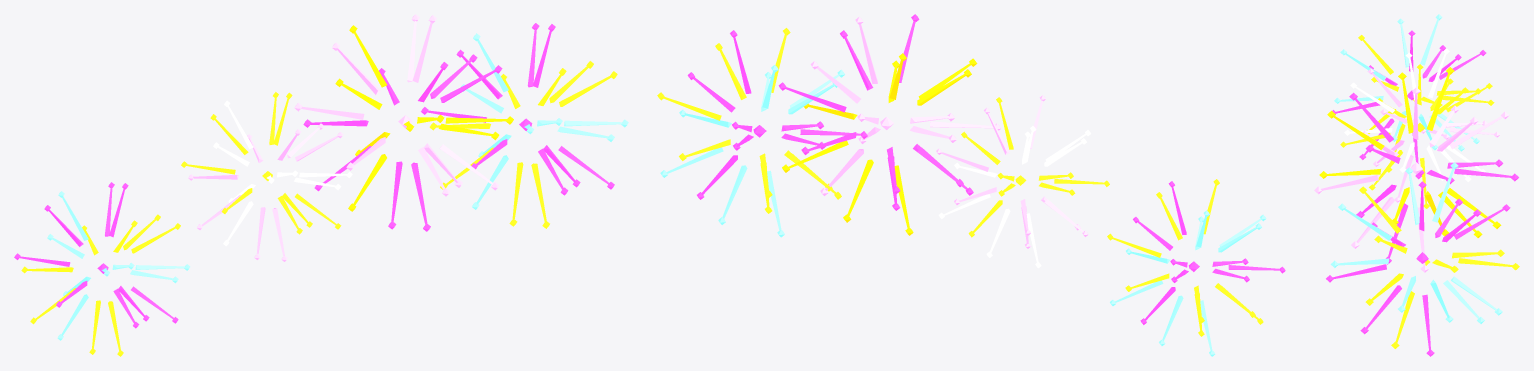
Rendered from W6_Far_Fireworks.fbx.
The picture shows the model from 3 angles, left to right: view 1: azimuth 30°, elevation 25°; view 2: azimuth 150°, elevation 25°; view 3: azimuth 270°, elevation 25°; orthographic projection. The views are drawn at different scales.
Visible parts, largest first — view 1: W6_Far_Fireworks; view 2: W6_Far_Fireworks; view 3: W6_Far_Fireworks.
Part boxes in pixels (x1,y1,x2,y2): W6_Far_Fireworks: (14,14,628,356); W6_Far_Fireworks: (657,14,1285,356); W6_Far_Fireworks: (1314,14,1519,356).
Size of the model in its own units: 497 by 201 by 160.
